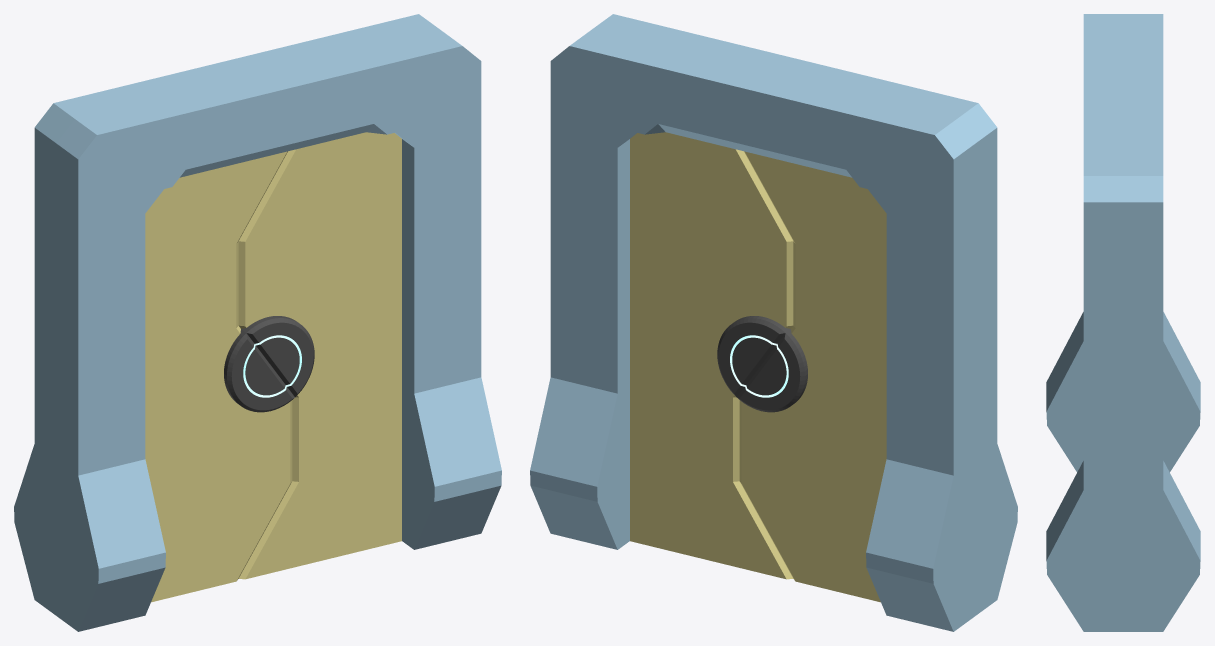
File: scifi door double sided_export 1.fbx
3 renders of one model, left to right at view 1: azimuth 30°, elevation 25°; view 2: azimuth 150°, elevation 25°; view 3: azimuth 270°, elevation 25°, orthographic. The views are drawn at different scales.
Visible parts, largest first — view 1: Cube, Cube.001, Cube.002, Cylinder.002, Cylinder.007; view 2: Cube, Cube.001, Cube.002, Cylinder.002, Cylinder.007; view 3: Cube.
Part boxes in pixels (x1,y1,x2,y2): Cube: (14,14,501,631); Cube.001: (238,132,401,579); Cube.002: (145,151,292,602); Cylinder.002: (224,329,294,412); Cylinder.007: (241,316,314,397); Cube: (530,14,1017,631); Cube.001: (630,132,793,579); Cube.002: (739,151,886,602); Cylinder.002: (737,329,807,412); Cylinder.007: (717,316,790,397); Cube: (1046,14,1200,631).
Bounding box in the file's own units: 300 × 350 × 109.
